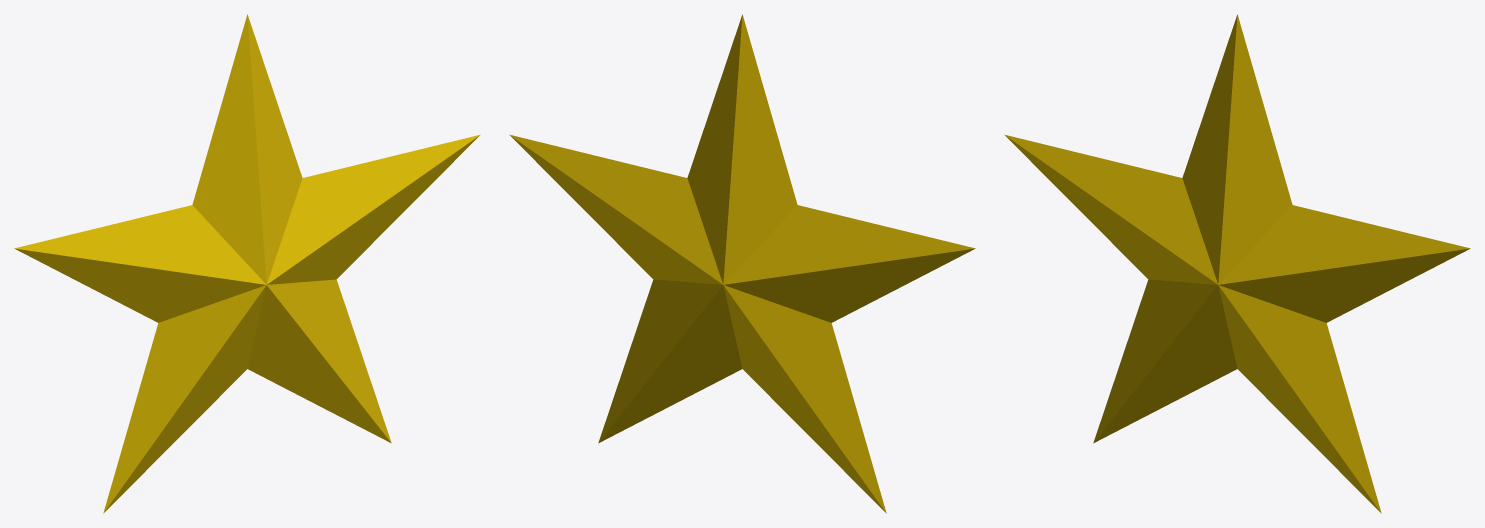
File: Star.glb
The picture shows the model from 3 angles, left to right: view 1: azimuth 30°, elevation 25°; view 2: azimuth 150°, elevation 25°; view 3: azimuth 330°, elevation 25°; orthographic projection.
Visible parts, largest first — view 1: Mesh; view 2: Mesh; view 3: Mesh.
Part boxes in pixels (<box>): Mesh: <box>14,14,480,513</box>; Mesh: <box>509,14,975,513</box>; Mesh: <box>1004,14,1470,513</box>.
Bounding box in the file's own units: 2.38 × 2.26 × 0.3377.
